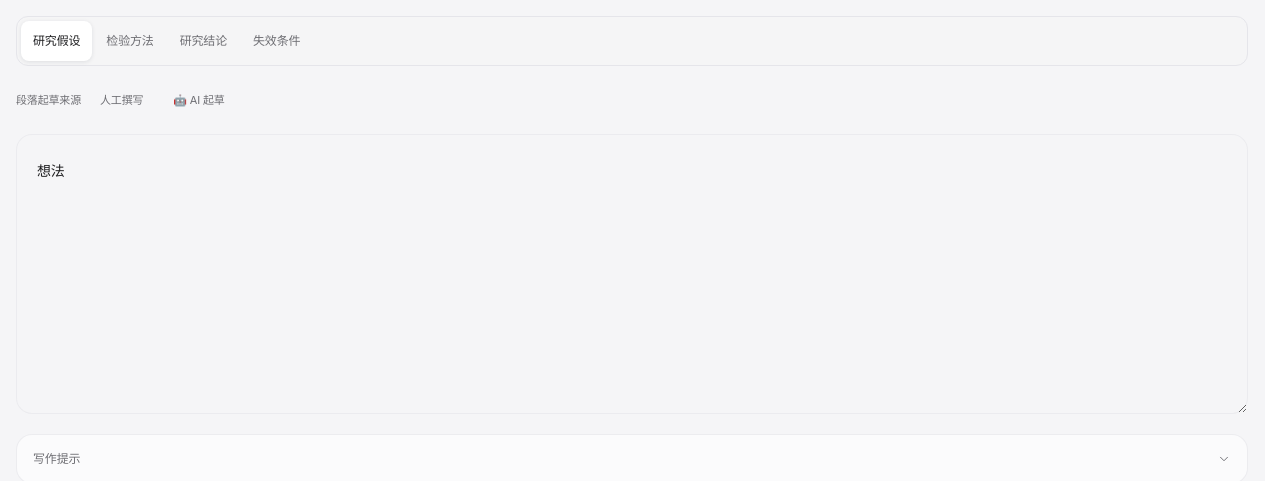
Test: marks an AI-drafted section and surfaces the badge for review (P2.4)
Click the button "🤖 AI 起草": point(199, 100) [162,86,236,114]
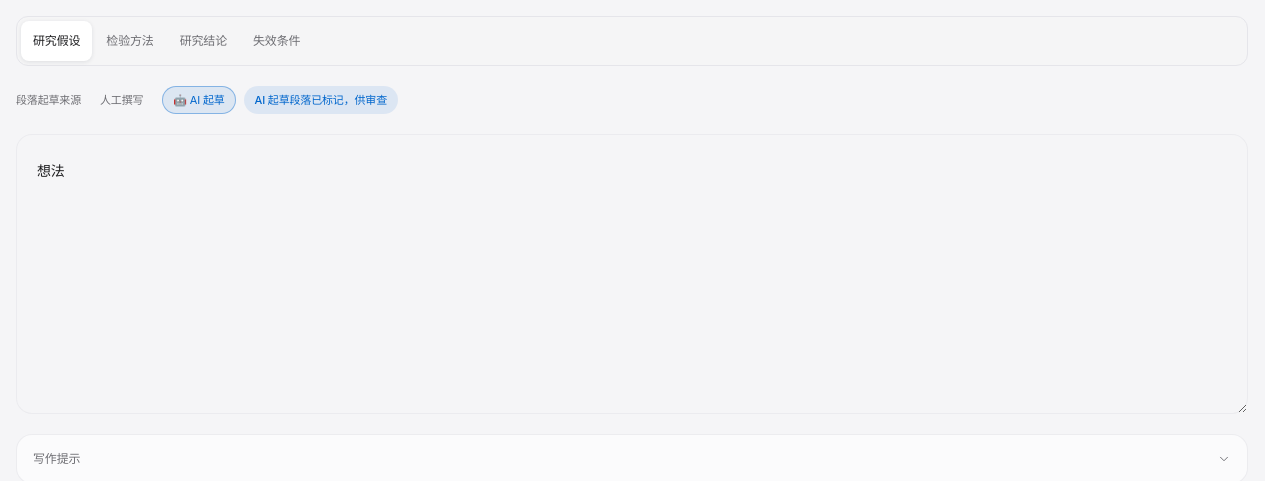
Check: the text "AI 起草段落已标记，供审查" is shown, box [244,86,398,114]
Click the button "人工撰写": point(122, 100) [89,86,154,114]
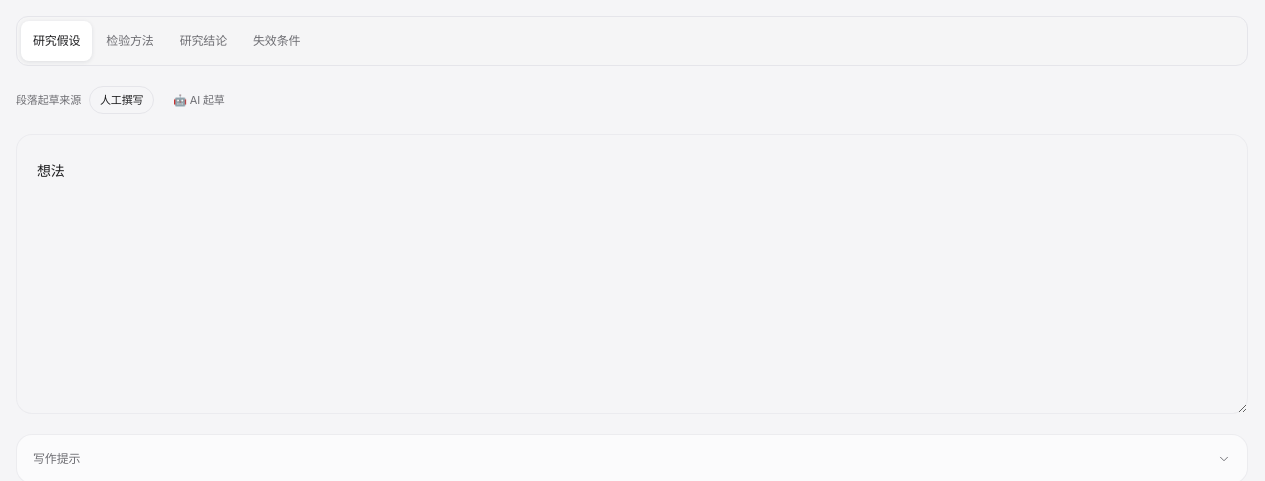
Check: the text "AI 起草段落已标记" is gone
